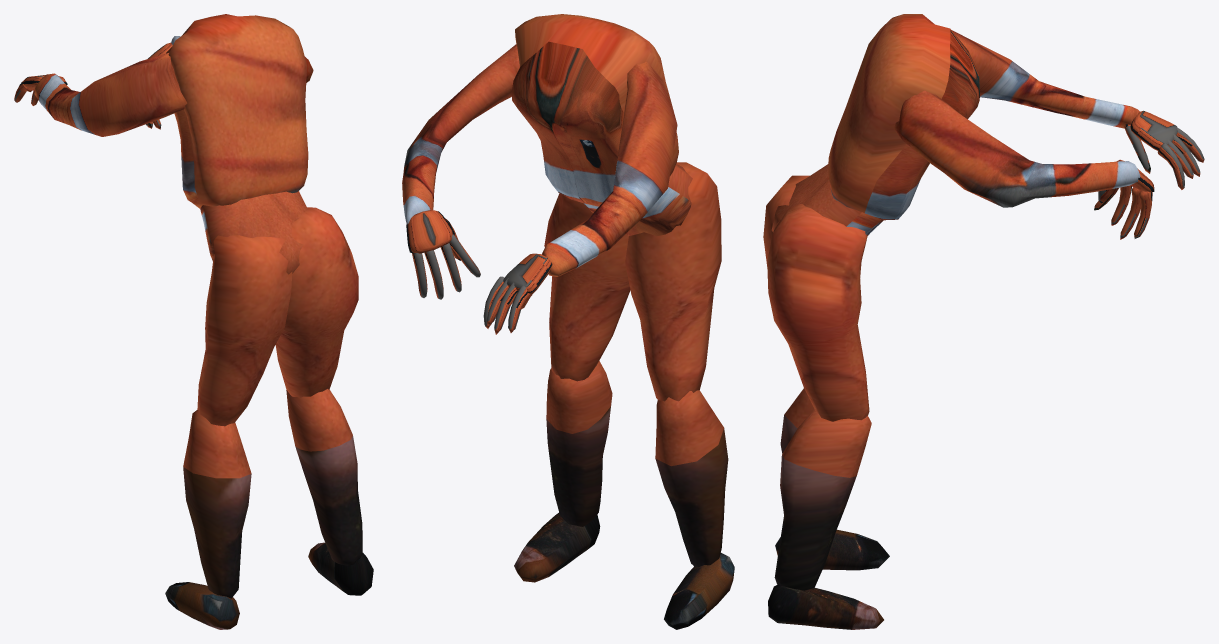
Rendered from SM_A_Téo00.fbx.
3 renders of one model, left to right at view 1: azimuth 30°, elevation 25°; view 2: azimuth 150°, elevation 25°; view 3: azimuth 270°, elevation 25°, orthographic. The views are drawn at different scales.
Parts seen in each view (by area): view 1: SM_A_Téo00; view 2: SM_A_Téo00; view 3: SM_A_Téo00.
Part boxes in pixels (box(x1,y1,x2,y2)): SM_A_Téo00: box(14, 14, 373, 629); SM_A_Téo00: box(402, 14, 734, 629); SM_A_Téo00: box(763, 14, 1204, 629).
Bounding box in the file's own units: 75.24 × 179 × 125.
